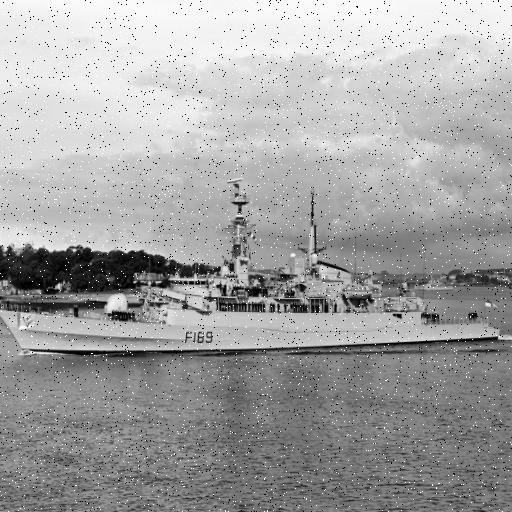Fragata: (1, 180, 503, 361)
